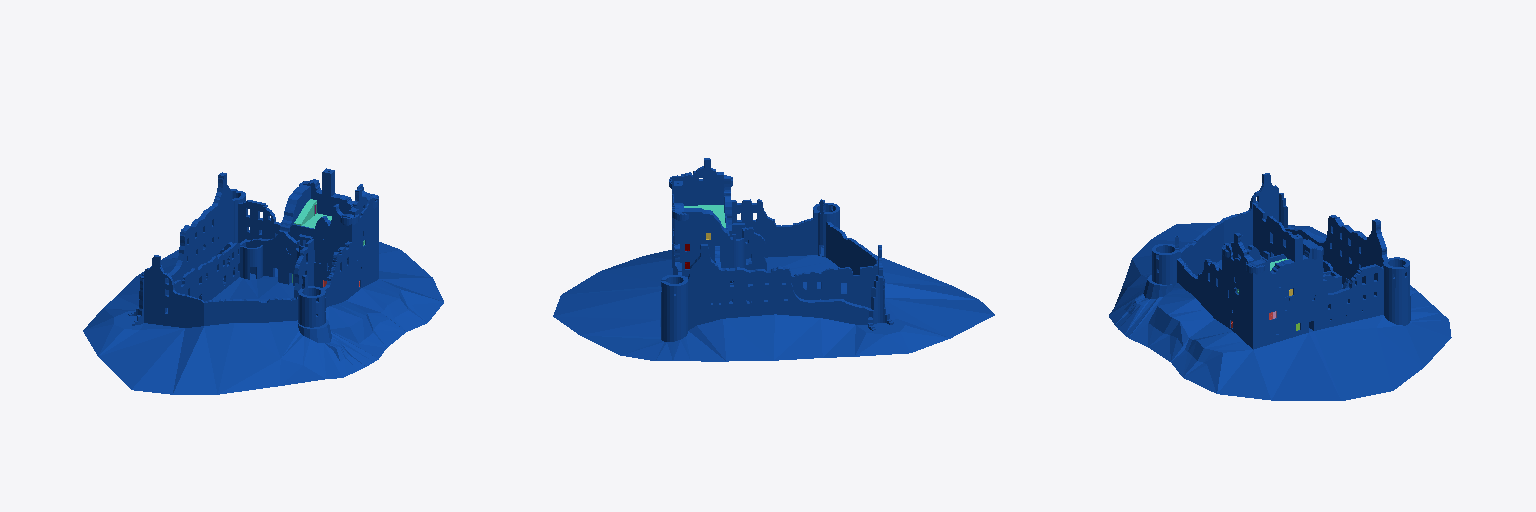
The model's file is castle.obj.
3 renders of one model, left to right at view 1: azimuth 30°, elevation 25°; view 2: azimuth 150°, elevation 25°; view 3: azimuth 270°, elevation 25°, orthographic.
Parts seen in each view (by area): view 1: Layer0_001; view 2: Layer0_001; view 3: Layer0_001.
Boxes of the visible parts, x1=… form: Layer0_001: x1=83, y1=168, x2=443, y2=394; Layer0_001: x1=553, y1=158, x2=994, y2=361; Layer0_001: x1=1109, y1=173, x2=1451, y2=400.
Bounding box in the file's own units: 74657 × 24932 × 62987.